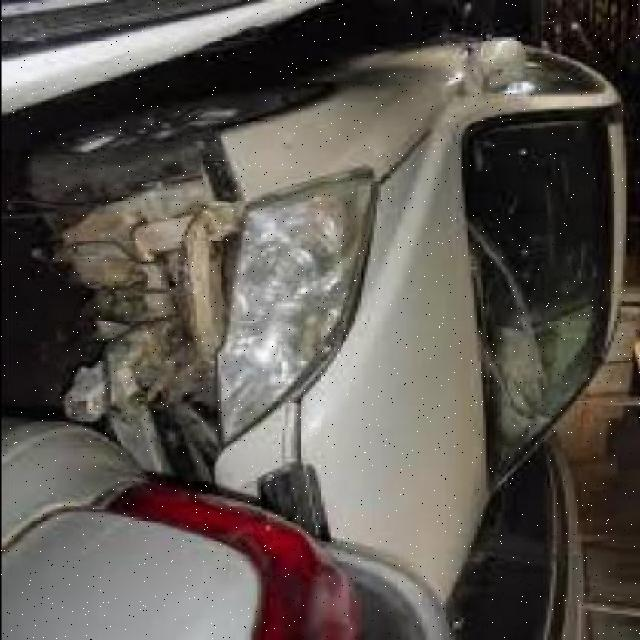damage: (56, 132, 244, 479)
